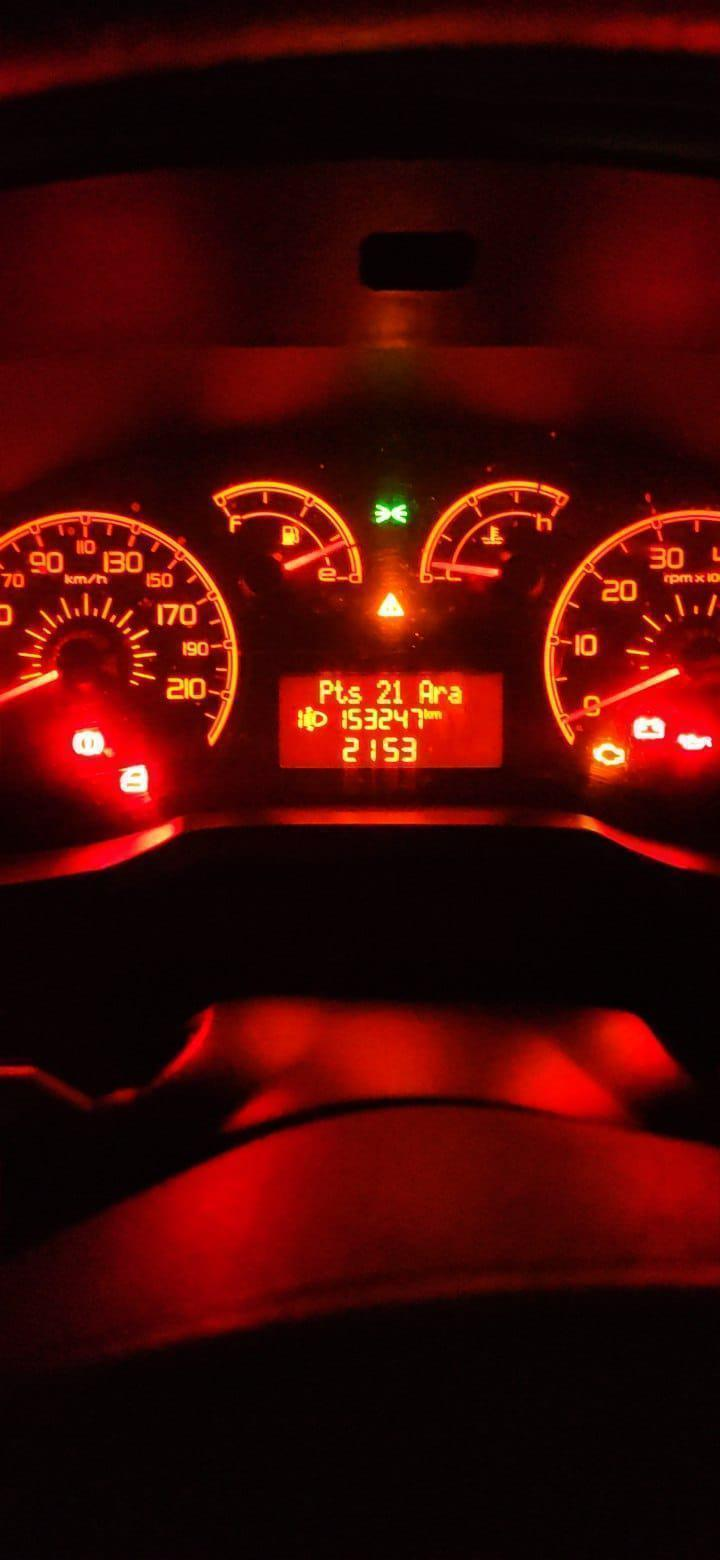1: (392, 675, 403, 706), (367, 735, 378, 764), (293, 705, 304, 732), (340, 707, 347, 732)
2: (340, 734, 359, 765), (376, 677, 391, 703), (378, 707, 392, 730)
3: (401, 735, 417, 762), (364, 705, 377, 731)
4: (394, 707, 408, 729)
5: (382, 736, 399, 763), (348, 705, 362, 730)
7: (411, 707, 423, 731)
X: (333, 677, 348, 707), (417, 678, 433, 704), (319, 677, 333, 706), (449, 683, 464, 706), (348, 682, 363, 703), (434, 682, 446, 704), (431, 708, 443, 720), (423, 706, 431, 720)
odometer: (275, 667, 506, 770)
